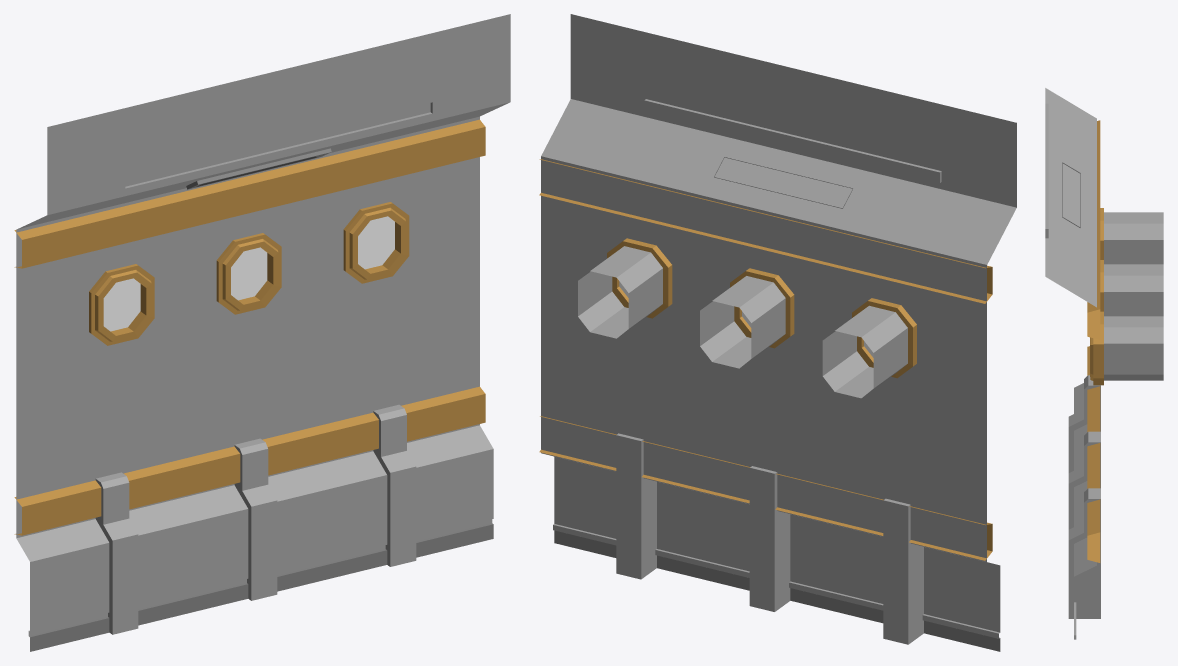
Rendered from SmallWindows_Wall_SideA.glb.
3 views of the same model, side by side, from view 1: azimuth 30°, elevation 25°; view 2: azimuth 150°, elevation 25°; view 3: azimuth 270°, elevation 25° (orthographic). The views are drawn at different scales.
Visible parts, largest first — view 1: SmallWindows_Wall_SideA; view 2: SmallWindows_Wall_SideA; view 3: SmallWindows_Wall_SideA.
Boxes of the visible parts, x1=… form: SmallWindows_Wall_SideA: x1=14, y1=14, x2=510, y2=651; SmallWindows_Wall_SideA: x1=539, y1=14, x2=1016, y2=651; SmallWindows_Wall_SideA: x1=1045, y1=88, x2=1163, y2=639.
Size of the model in its own units: 4 by 4.43 by 1.06.
